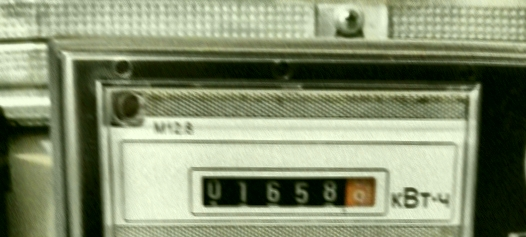0: (205, 178, 222, 199)
1: (235, 178, 249, 202)
5: (293, 179, 309, 204)
6: (264, 179, 282, 203)
8: (321, 179, 338, 201)
9: (350, 187, 366, 208)
screen: (186, 161, 393, 222)
